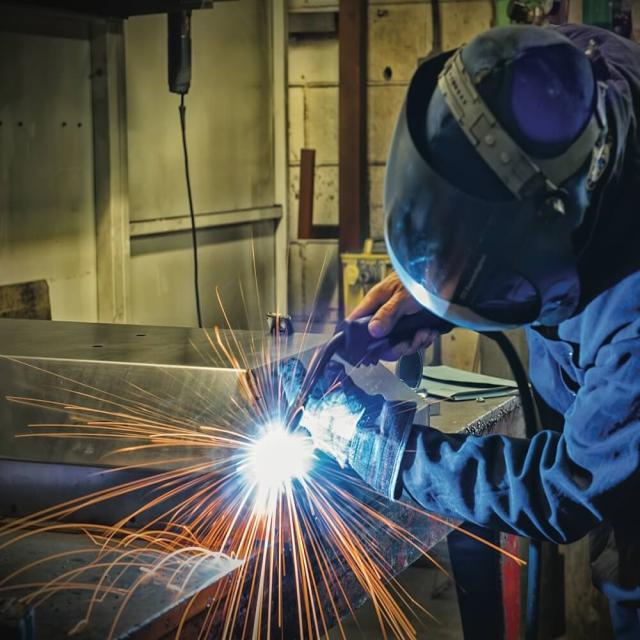welding: (248, 422, 317, 484)
